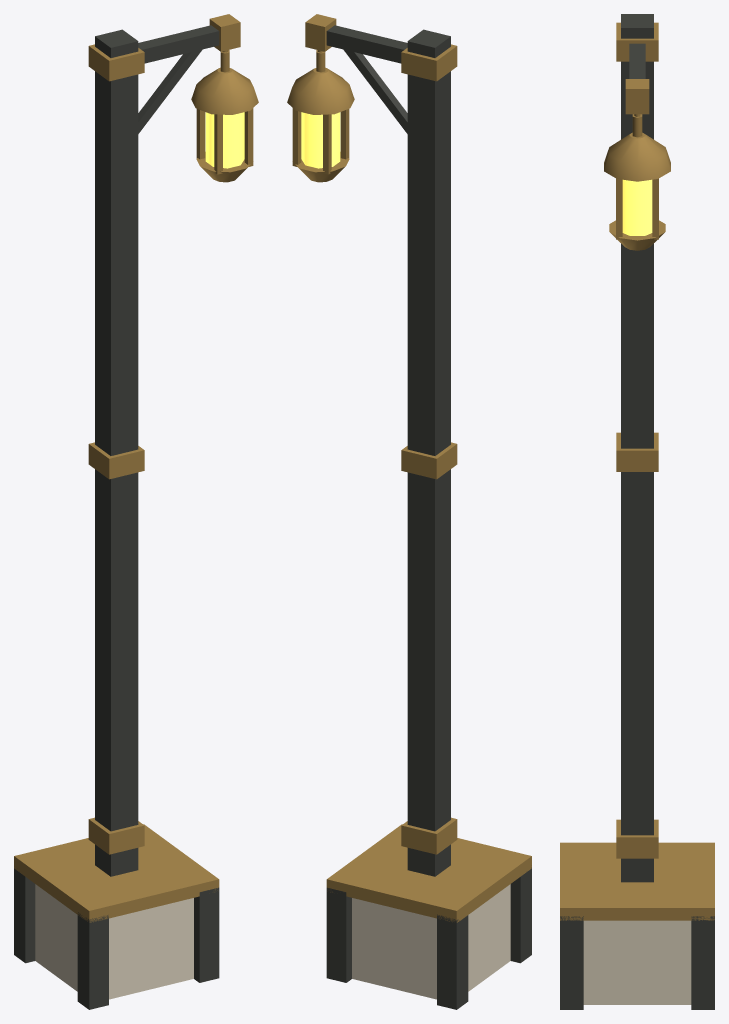
Rendered from lamp_tall.glb.
3 renders of one model, left to right at view 1: azimuth 30°, elevation 25°; view 2: azimuth 150°, elevation 25°; view 3: azimuth 270°, elevation 25°, orthographic. The views are drawn at different scales.
Visible parts, largest first — view 1: lamp_tall; view 2: lamp_tall; view 3: lamp_tall.
Part boxes in pixels (bbox=[...]): lamp_tall: bbox=[14, 14, 258, 1009]; lamp_tall: bbox=[287, 14, 531, 1009]; lamp_tall: bbox=[560, 14, 714, 1009].
Size of the model in its own units: 1.03 by 4.5 by 0.66.
